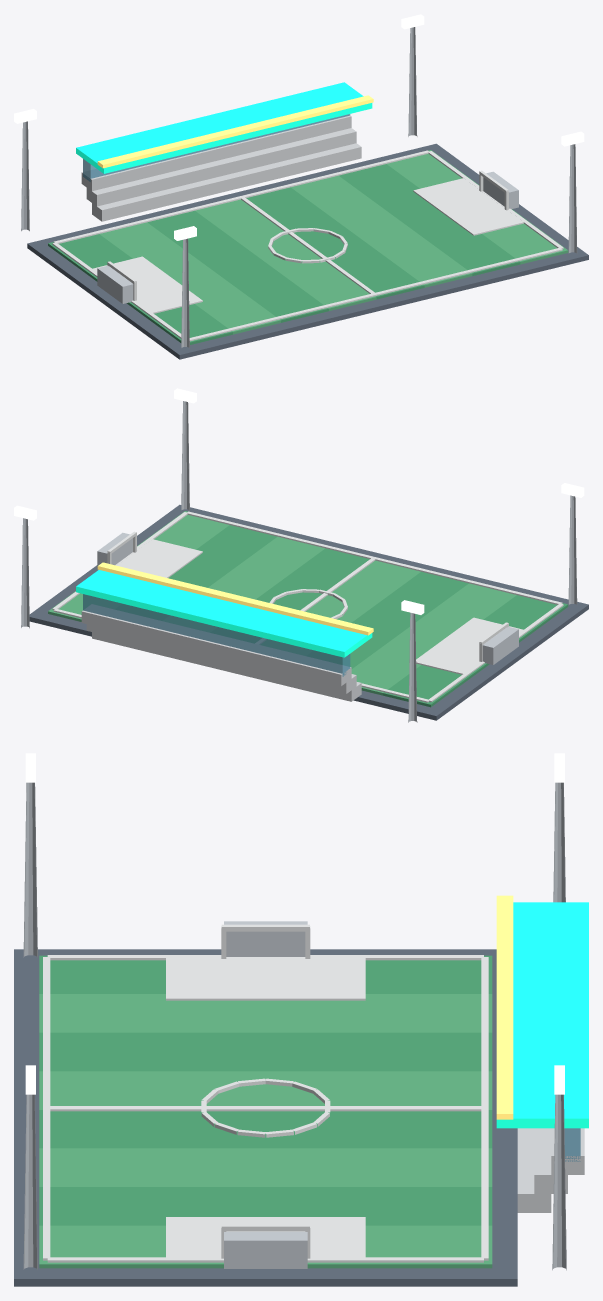
File: academy_youth_pitch.glb
3 views of the same model, one above another, from view 1: azimuth 30°, elevation 25°; view 2: azimuth 150°, elevation 25°; view 3: azimuth 270°, elevation 25° (orthographic). The views are drawn at different scales.
Parts seen in each view (by area): view 1: academy_youth_pitch; view 2: academy_youth_pitch; view 3: academy_youth_pitch.
Part boxes in pixels (bbox=[...]): academy_youth_pitch: bbox=[14, 14, 588, 359]; academy_youth_pitch: bbox=[14, 388, 588, 722]; academy_youth_pitch: bbox=[14, 753, 588, 1286].
Bounding box in the file's own units: 3.72 × 1.08 × 2.74.
